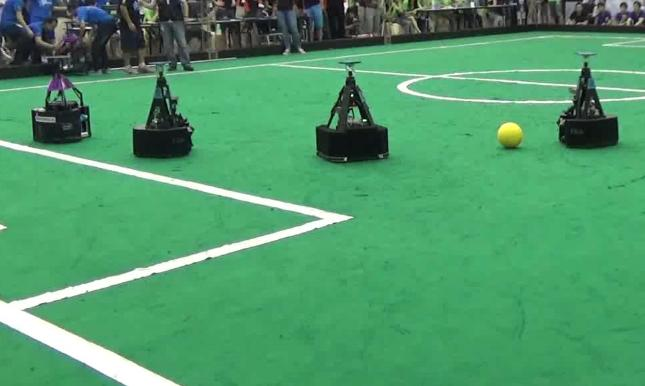robot: (312, 60, 392, 164), (558, 49, 623, 151), (132, 63, 193, 158), (29, 54, 94, 143)
